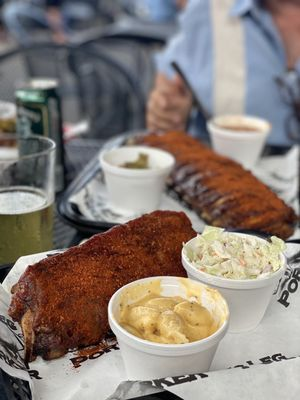sushi: (107, 276, 231, 381), (182, 227, 287, 332)
